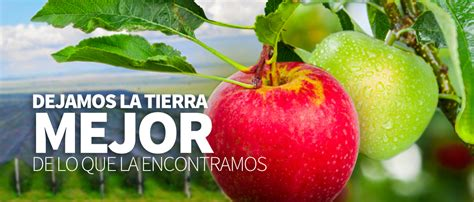apple: (200, 59, 360, 201), (310, 27, 442, 159)
